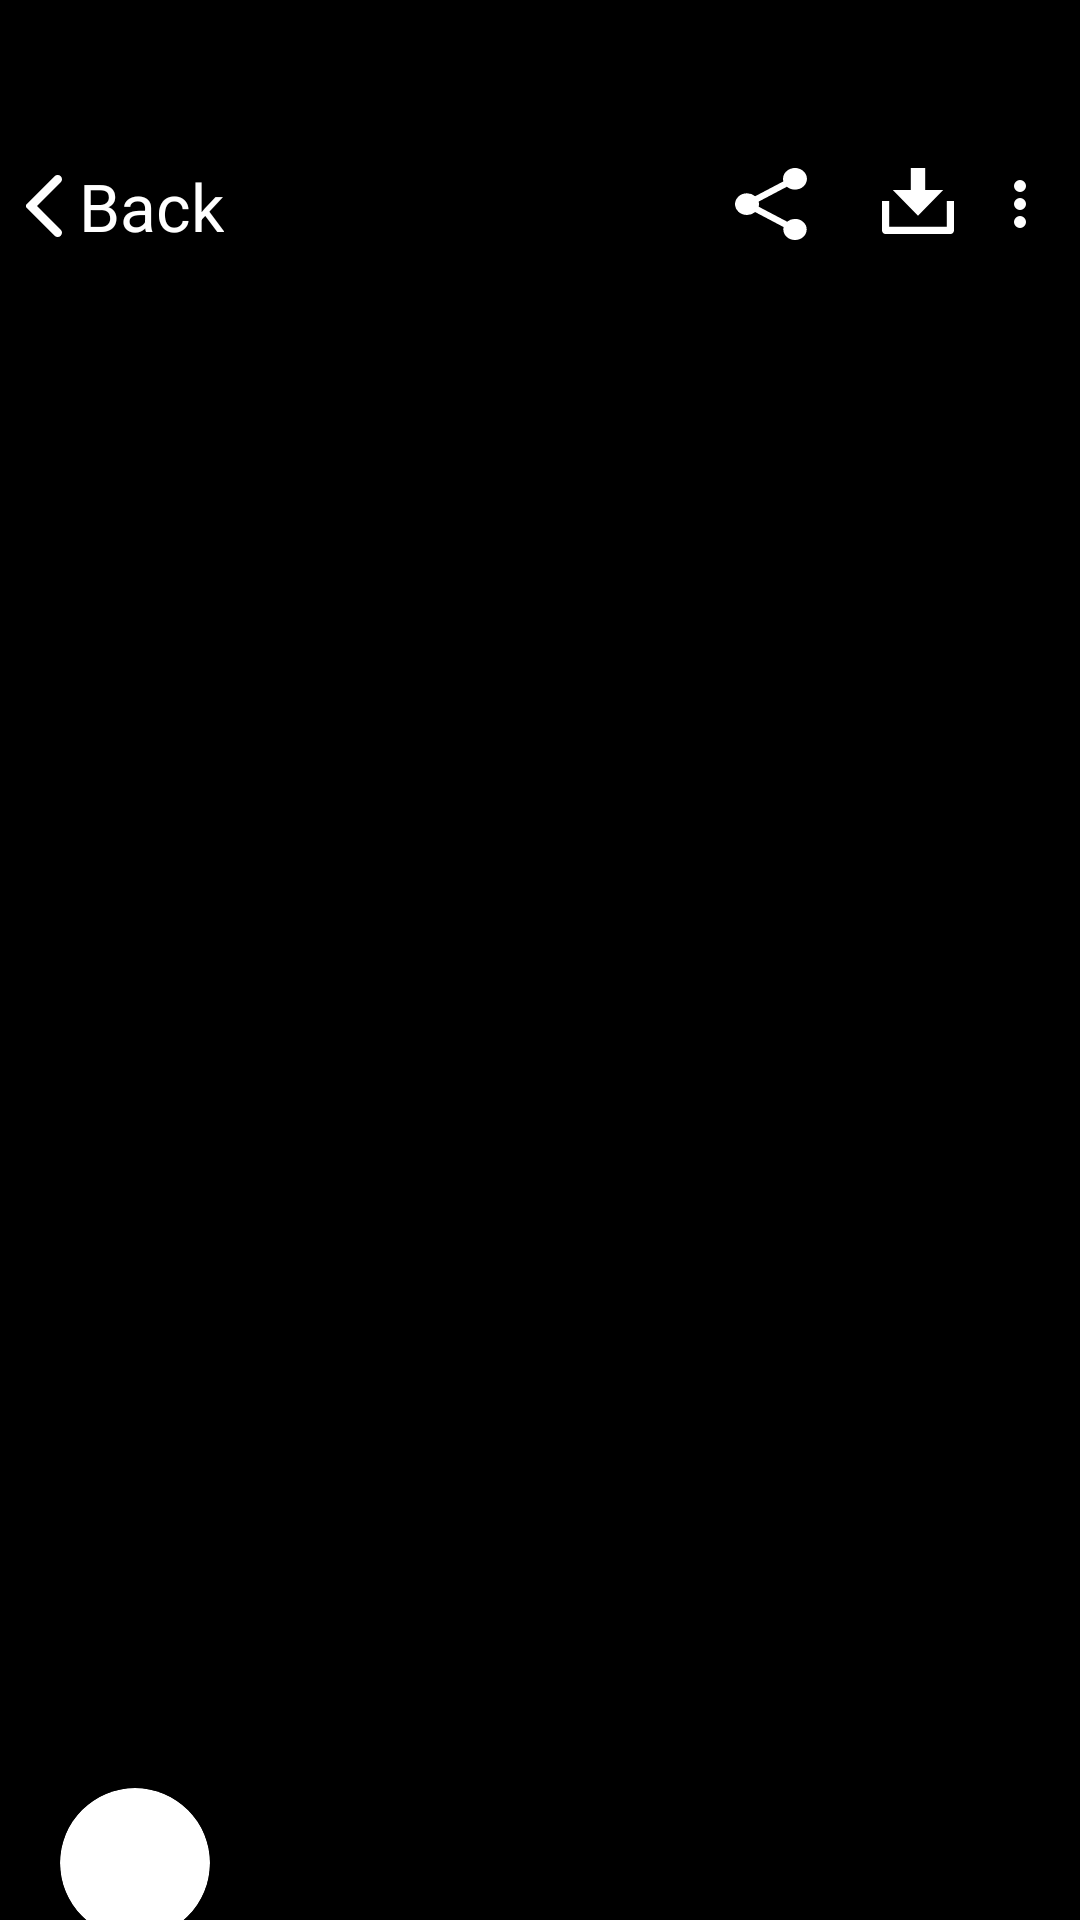

Icon bounding boxes for this 1080*1920 phone screenshot, format [x1=x1, y1=y1, x2=x2, y2=y2]:
download: [x1=882, y1=168, x2=954, y2=234]
option: [x1=1014, y1=180, x2=1026, y2=228]
share: [x1=735, y1=168, x2=807, y2=240]
